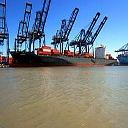Ships: (5, 44, 122, 70)
